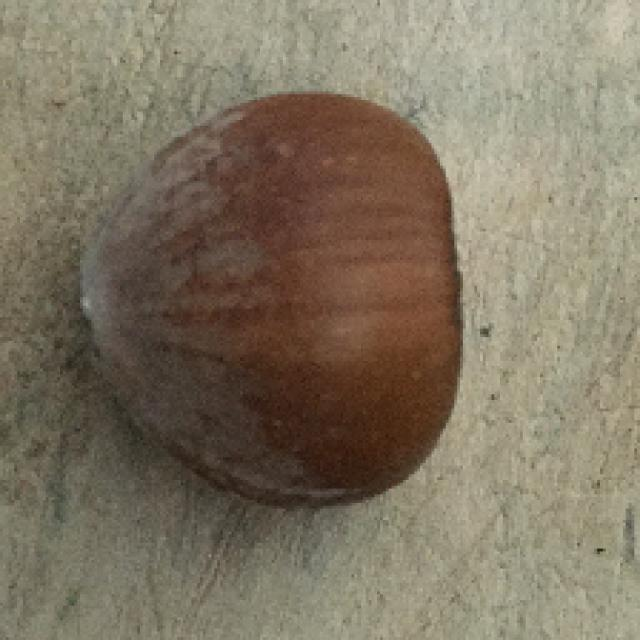qualityHazelnut: (77, 93, 472, 513)
